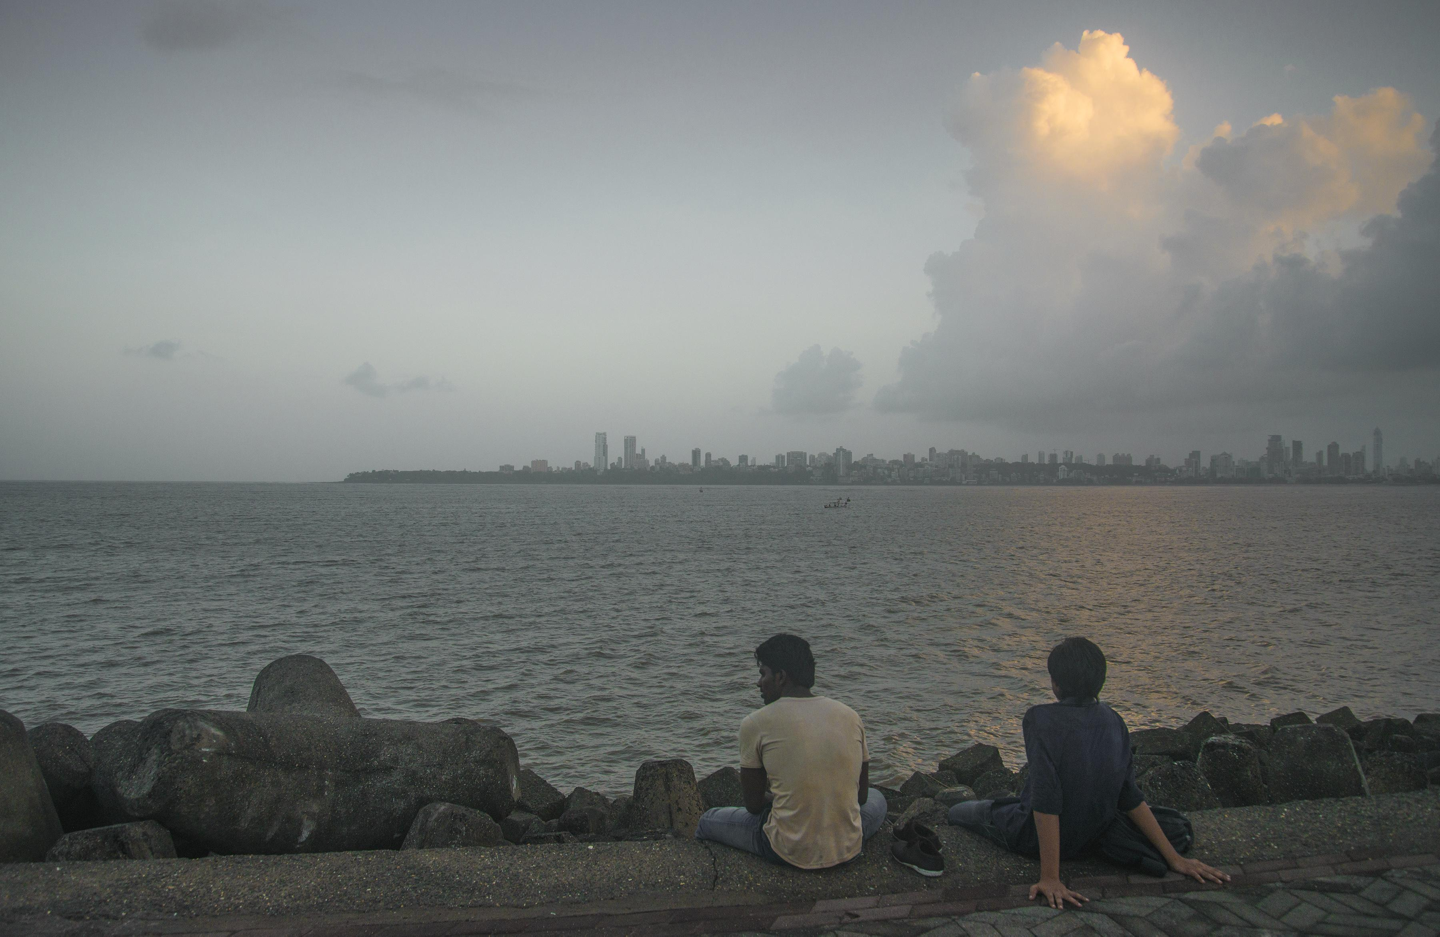backpack: (892, 815, 946, 877), (1151, 805, 1196, 855)
bed: (2, 635, 1052, 905)
bench: (940, 641, 1225, 920), (684, 673, 896, 868)
bird: (860, 771, 887, 836)
boat: (0, 582, 1439, 901), (940, 641, 1225, 920), (746, 627, 933, 883), (818, 491, 855, 511)
chair: (1151, 805, 1196, 855), (697, 765, 743, 809)
cup: (1151, 805, 1196, 855)
dog: (860, 771, 887, 836)
handbag: (1121, 801, 1191, 866), (892, 816, 947, 877), (1146, 804, 1197, 855)
person: (153, 638, 997, 906), (1, 657, 647, 879), (473, 665, 955, 889), (729, 655, 1087, 897), (943, 635, 1225, 912), (700, 630, 879, 871), (1130, 753, 1233, 882), (1093, 801, 1234, 890), (1140, 807, 1228, 877), (754, 630, 817, 707), (861, 780, 888, 836)
skateboard: (893, 815, 946, 882)
suitcase: (892, 816, 947, 877)
surfboard: (940, 641, 1225, 920), (936, 740, 1007, 784), (859, 753, 890, 841), (881, 767, 961, 800), (864, 756, 934, 789), (861, 783, 888, 835), (862, 756, 896, 796), (858, 757, 879, 820)
umbrella: (936, 742, 1004, 786), (861, 783, 888, 835)
